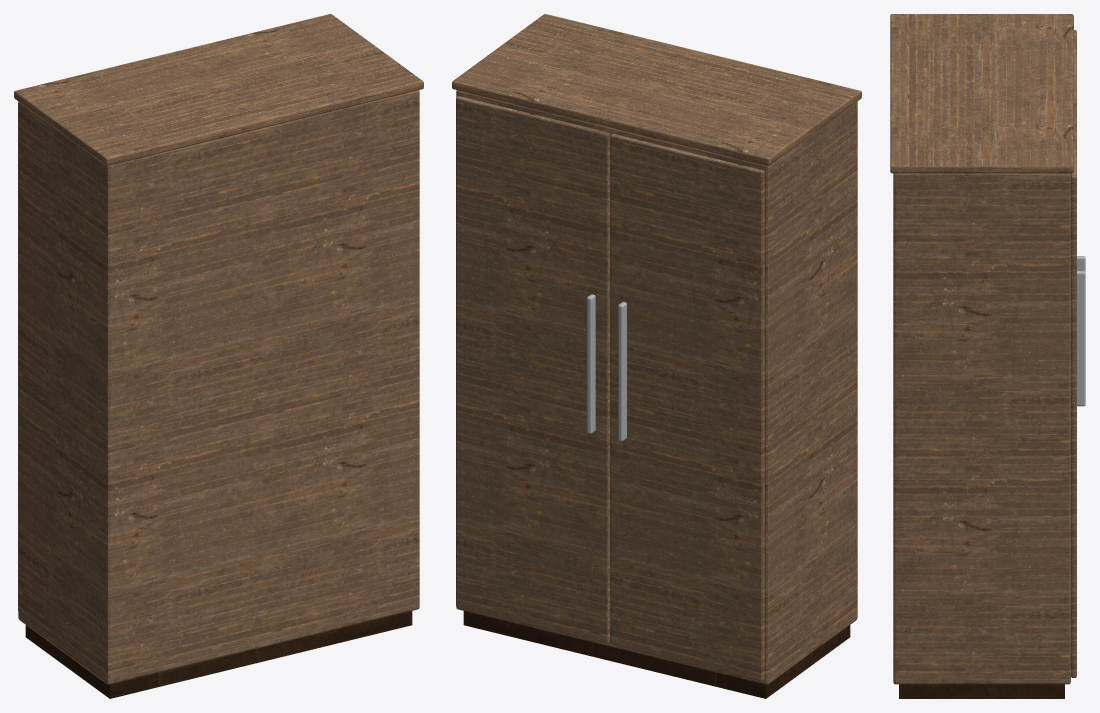
File: wardrobe_s.glb
3 renders of one model, left to right at view 1: azimuth 30°, elevation 25°; view 2: azimuth 150°, elevation 25°; view 3: azimuth 270°, elevation 25°, orthographic.
Visible parts, largest first — view 1: wardrobe_s_body, wardrobe_s_crown, wardrobe_s_plinth; view 2: wardrobe_s_doors, wardrobe_s_body, wardrobe_s_crown, wardrobe_s_plinth, wardrobe_s_handles; view 3: wardrobe_s_body, wardrobe_s_crown, wardrobe_s_doors, wardrobe_s_plinth, wardrobe_s_handles.
Part boxes in pixels (box(x1,y1,x2,y2)): wardrobe_s_body: box(18, 90, 419, 684); wardrobe_s_crown: box(14, 14, 423, 165); wardrobe_s_plinth: box(25, 611, 412, 698); wardrobe_s_doors: box(456, 96, 764, 681); wardrobe_s_body: box(456, 90, 857, 684); wardrobe_s_crown: box(452, 14, 861, 165); wardrobe_s_plinth: box(463, 611, 850, 698); wardrobe_s_handles: box(586, 294, 626, 441); wardrobe_s_body: box(893, 173, 1070, 684); wardrobe_s_crown: box(890, 14, 1073, 173); wardrobe_s_doors: box(1071, 30, 1076, 677); wardrobe_s_plinth: box(899, 684, 1064, 698); wardrobe_s_handles: box(1077, 256, 1085, 406).
Bounding box in the file's own units: 1.22 × 2 × 0.66.
Materials: 3 (2 with a texture image).
